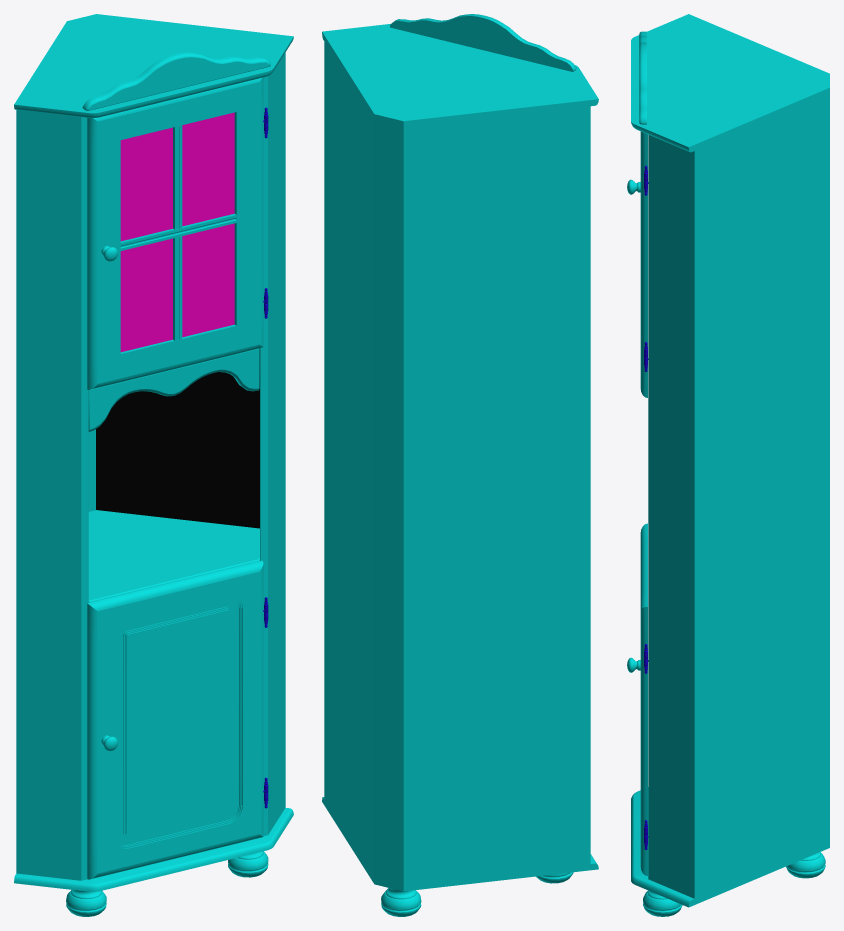
File: Corner_Cupboard.fbx
3 views of the same model, side by side, from view 1: azimuth 30°, elevation 25°; view 2: azimuth 150°, elevation 25°; view 3: azimuth 270°, elevation 25° (orthographic). The views are drawn at different scales.
Visible parts, largest first — view 1: #CPB0003_Cupboard, #CPB0003_Door, #CPB0003_Door_Window; view 2: #CPB0003_Cupboard; view 3: #CPB0003_Cupboard, #CPB0003_Door, #CPB0003_Door_Window.
Part boxes in pixels (x1=…): #CPB0003_Cupboard: x1=14, y1=14, x2=293, y2=916; #CPB0003_Door: x1=87, y1=560, x2=268, y2=879; #CPB0003_Door_Window: x1=87, y1=77, x2=268, y2=389; #CPB0003_Cupboard: x1=322, y1=14, x2=598, y2=916; #CPB0003_Cupboard: x1=631, y1=14, x2=829, y2=916; #CPB0003_Door: x1=627, y1=523, x2=647, y2=875; #CPB0003_Door_Window: x1=627, y1=131, x2=647, y2=397.
Size of the model in its own units: 0.6632 by 1.91 by 0.4264.
